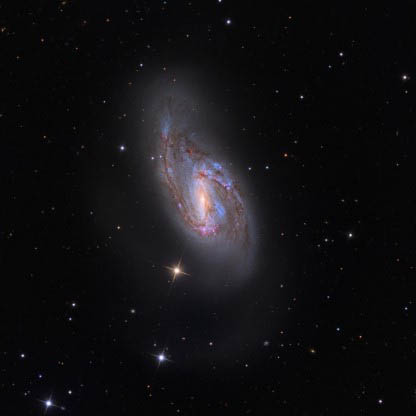Messier 66: (103, 69, 284, 305)
